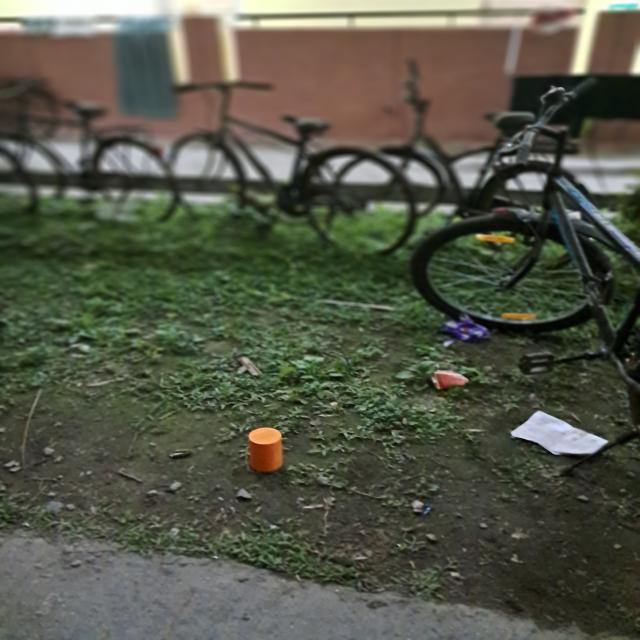Cylinder: (246, 426, 284, 472)
